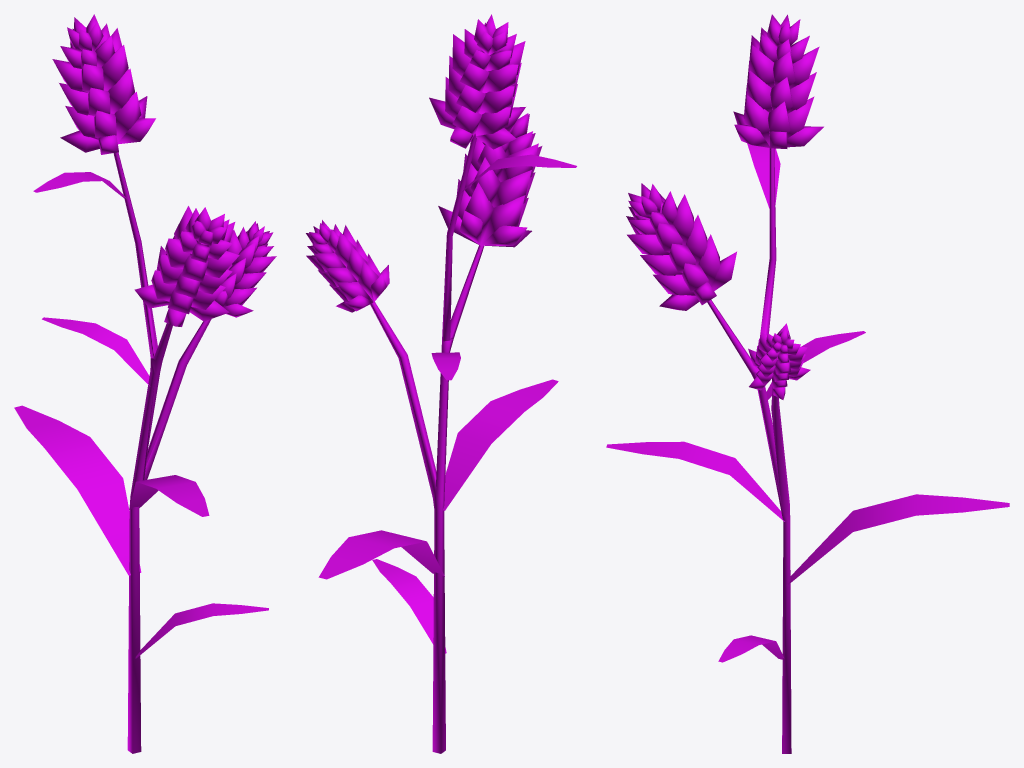
File: Flower Set2.fbx
The picture shows the model from 3 angles, left to right: view 1: azimuth 30°, elevation 25°; view 2: azimuth 150°, elevation 25°; view 3: azimuth 270°, elevation 25°; orthographic projection. The views are drawn at different scales.
Visible parts, largest first — view 1: Cube.001; view 2: Cube.001; view 3: Cube.001.
Part boxes in pixels (bbox=[...]): Cube.001: bbox=[14, 14, 276, 753]; Cube.001: bbox=[306, 14, 576, 753]; Cube.001: bbox=[606, 14, 1009, 753].
Bounding box in the file's own units: 0.1265 × 0.182 × 0.3546.
